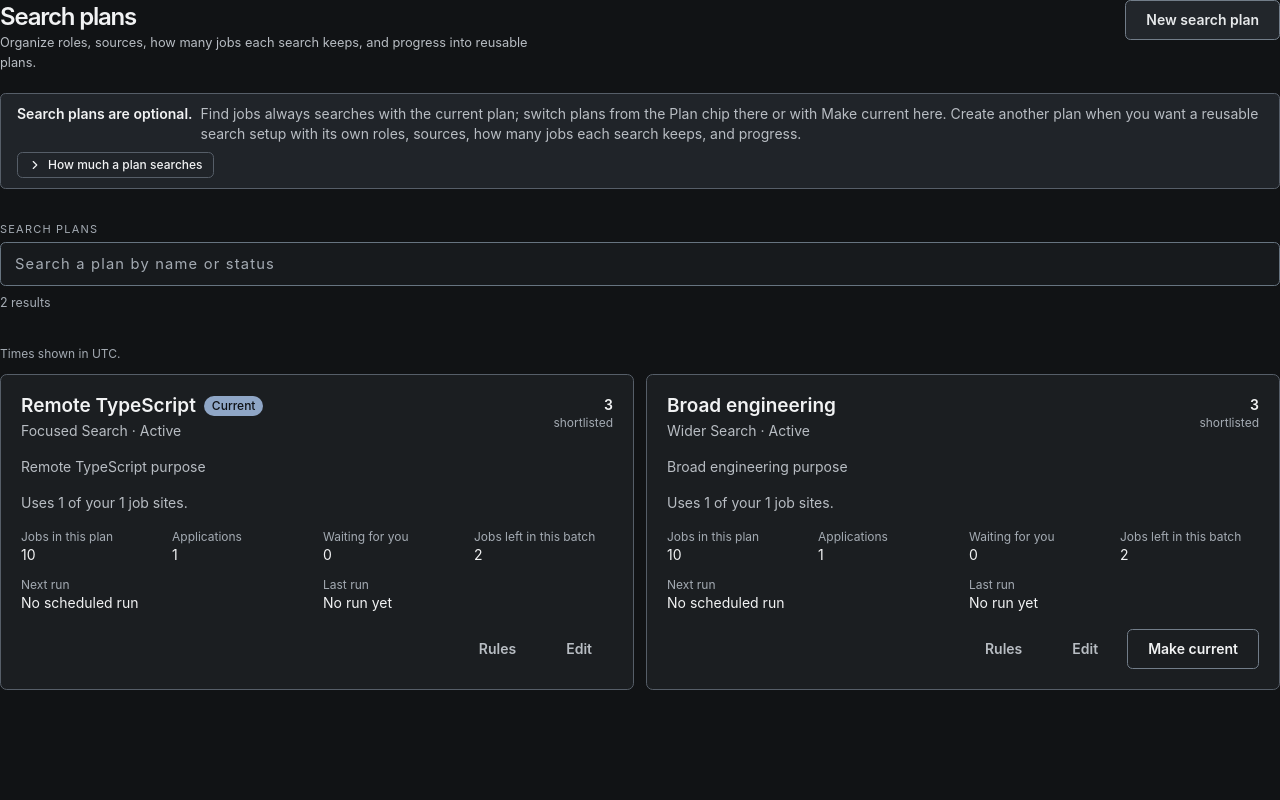
Test case: CampaignsScreen › keeps the open editor when discarding unsaved changes is declined
Click the 1st button "Edit": (579, 649) [545,629,613,669]
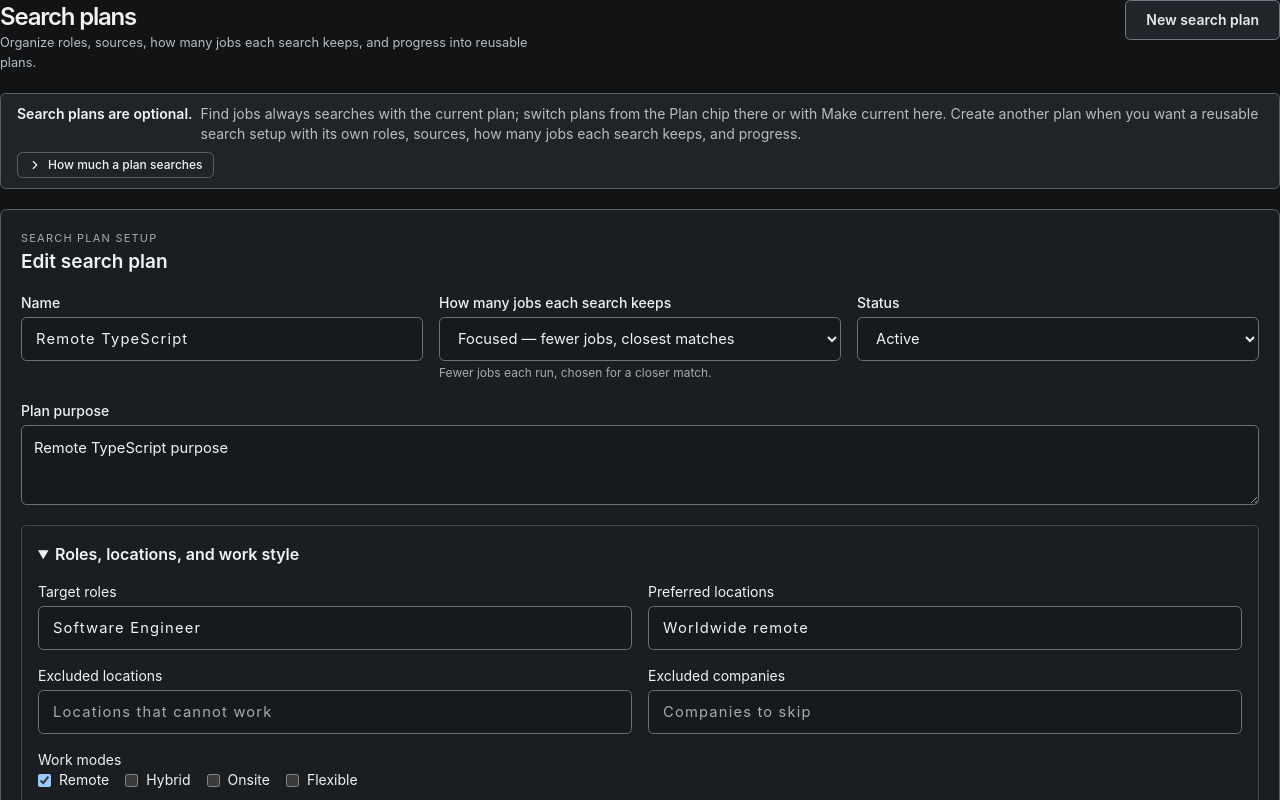
Replace the text in the field labelled "Name" with "Dirty draft": (222, 339) [21,317,423,361]
(page scrolled)
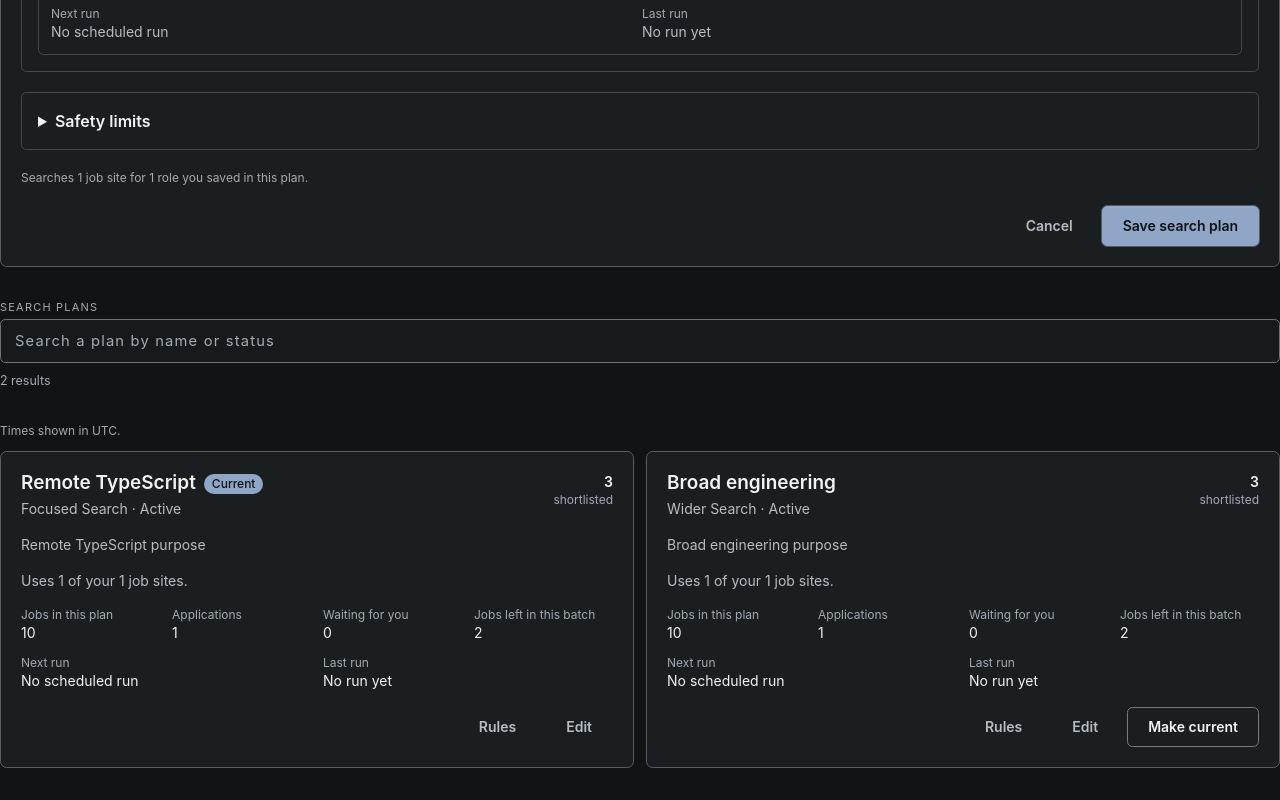
Click the button "Edit" below "Broad engineering purpose": (1085, 727) [1051,707,1119,747]
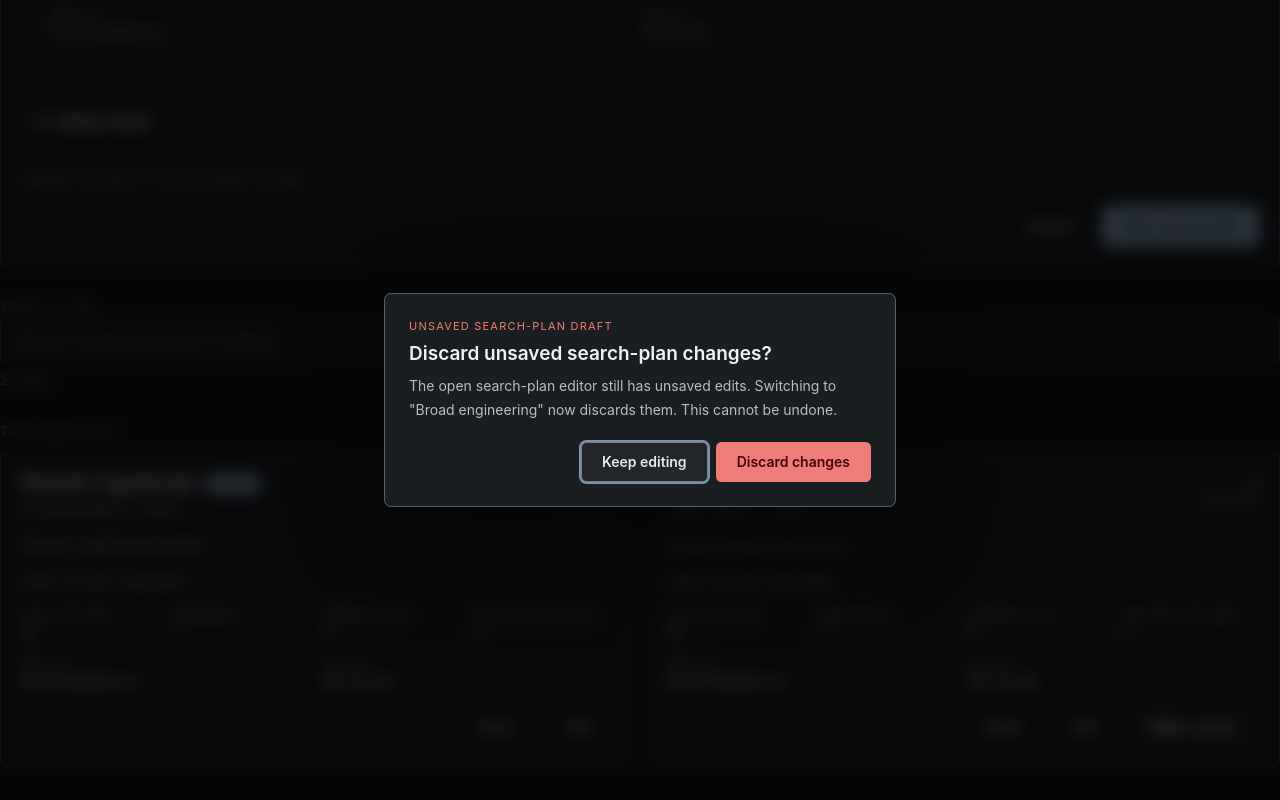
Expected: the dialog shows "Broad engineering", [409,377,837,418]
The backdrop resolves to staying, keeping the dirty draft intact.
Click the element that starts with "Unsaved search-plan draft": (77, 400) [0,0,1279,799]
(page scrolled)
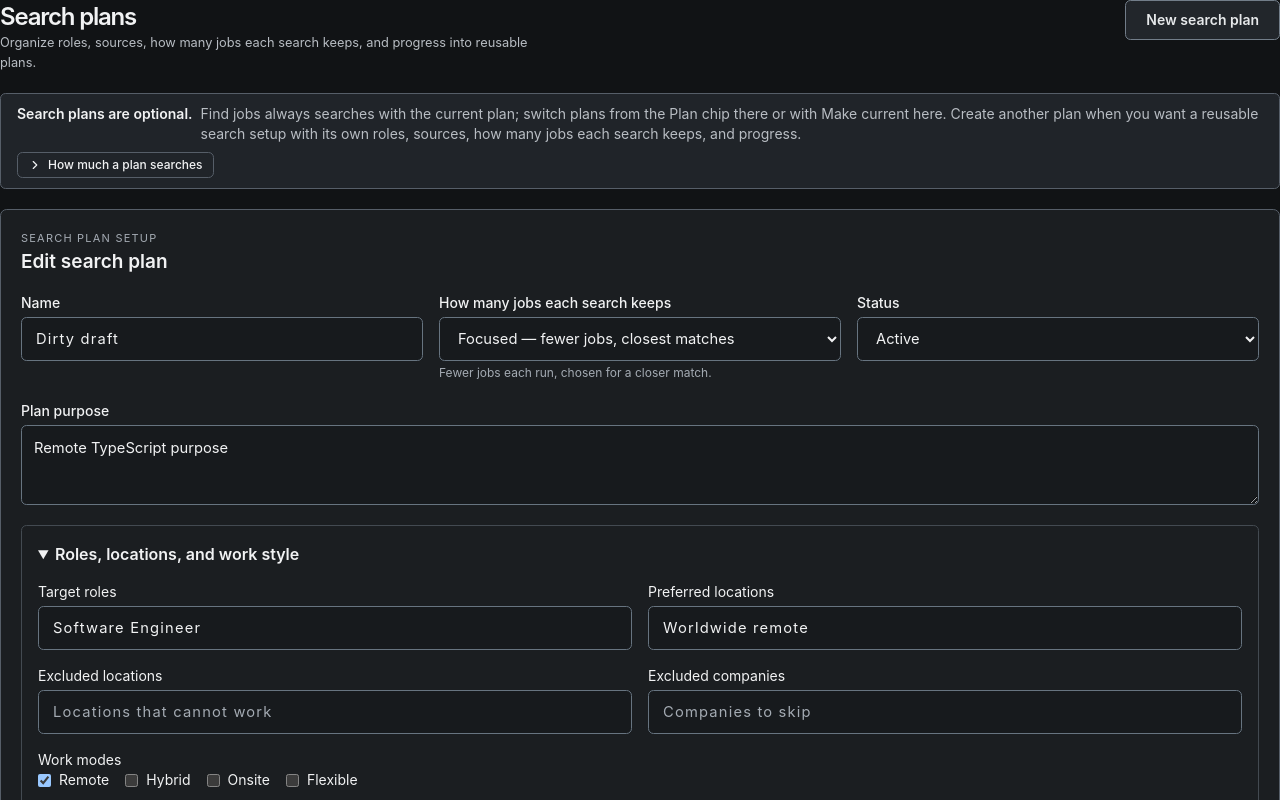
Expected: the dialog is gone
